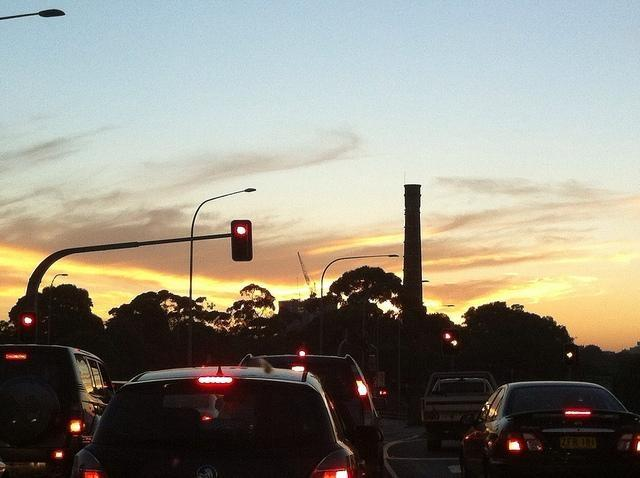car: (62, 367, 352, 470), (236, 354, 384, 474), (0, 342, 115, 478), (472, 384, 637, 468), (420, 371, 498, 452)
truck: (419, 370, 498, 449)
